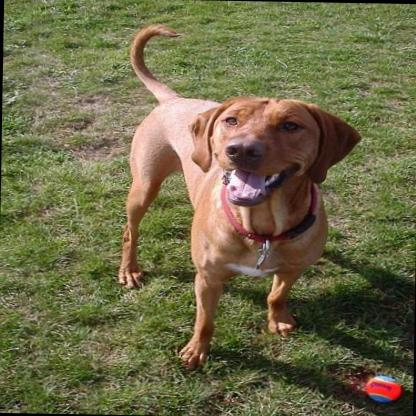vizsla: (110, 20, 364, 370)
